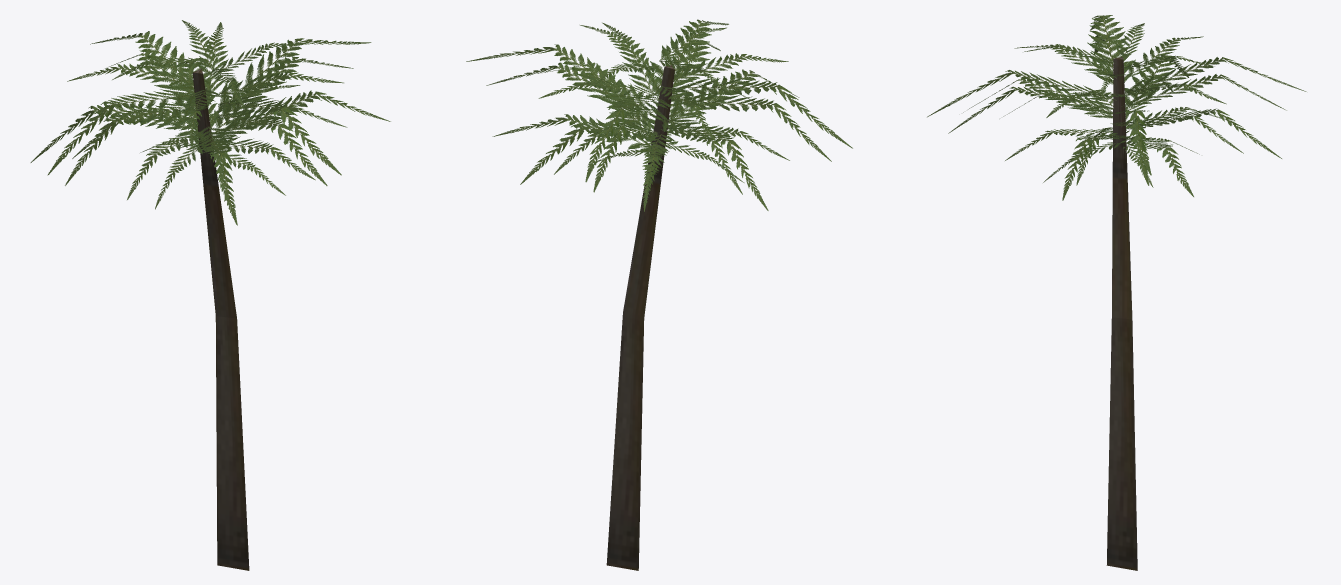
The model's file is Palm Tree.fbx.
The picture shows the model from 3 angles, left to right: view 1: azimuth 30°, elevation 25°; view 2: azimuth 150°, elevation 25°; view 3: azimuth 270°, elevation 25°; orthographic projection. The views are drawn at different scales.
Visible parts, largest first — view 1: TexturesCom_Branches0030_1_S.004; view 2: TexturesCom_Branches0030_1_S.004; view 3: TexturesCom_Branches0030_1_S.004.
Boxes of the visible parts, x1,y1,x2,y2 form: TexturesCom_Branches0030_1_S.004: [30, 20, 390, 570]; TexturesCom_Branches0030_1_S.004: [466, 19, 852, 570]; TexturesCom_Branches0030_1_S.004: [927, 15, 1306, 570].
Size of the model in its own units: 79.04 by 100 by 76.26.
2 materials, 2 textured.
